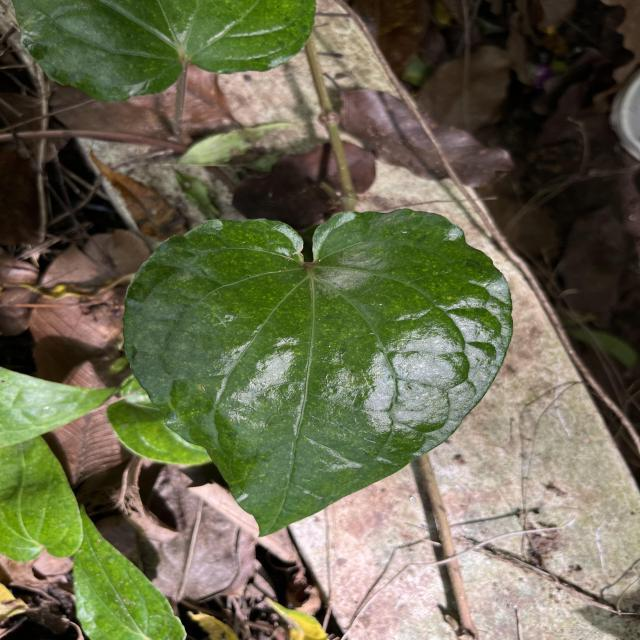Piper betle: (120, 205, 517, 542)
